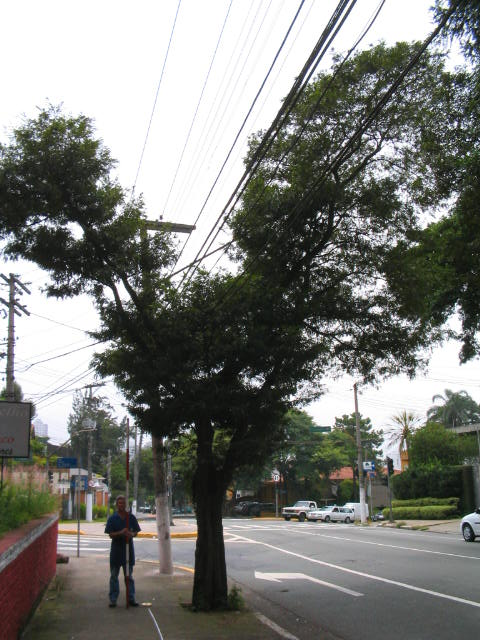crown: (4, 39, 472, 473)
stem: (181, 485, 239, 608)
stick: (120, 418, 135, 611)
tree: (1, 38, 475, 609)
